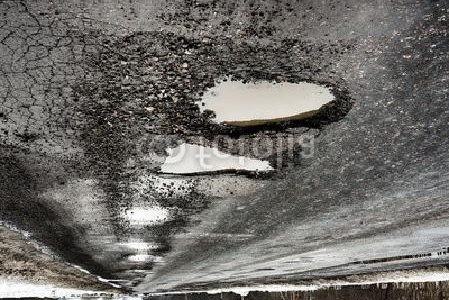pothole: (179, 73, 352, 141), (152, 141, 282, 183), (117, 203, 170, 229), (119, 241, 162, 253), (124, 254, 159, 264)
